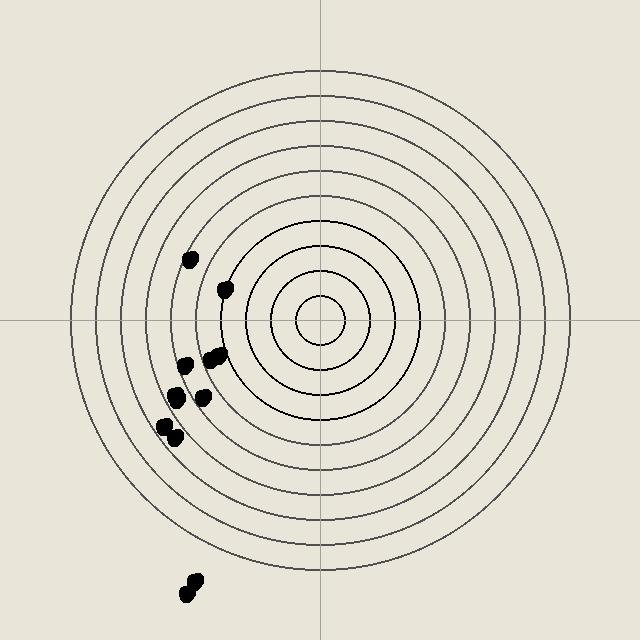vertical_scatter: (184, 571, 204, 591), (166, 389, 186, 409), (164, 385, 184, 405), (192, 387, 212, 407), (200, 349, 220, 369), (176, 583, 196, 603), (208, 345, 228, 365), (153, 416, 173, 436), (214, 279, 234, 299), (164, 427, 184, 447), (174, 355, 194, 375), (179, 249, 199, 269)
